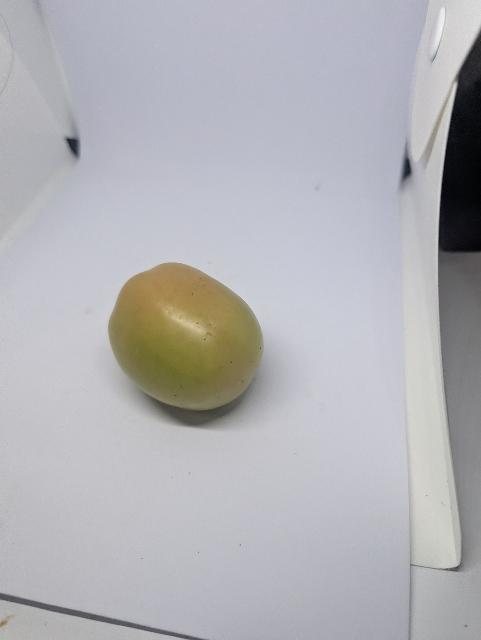breaker: (102, 260, 279, 424)
